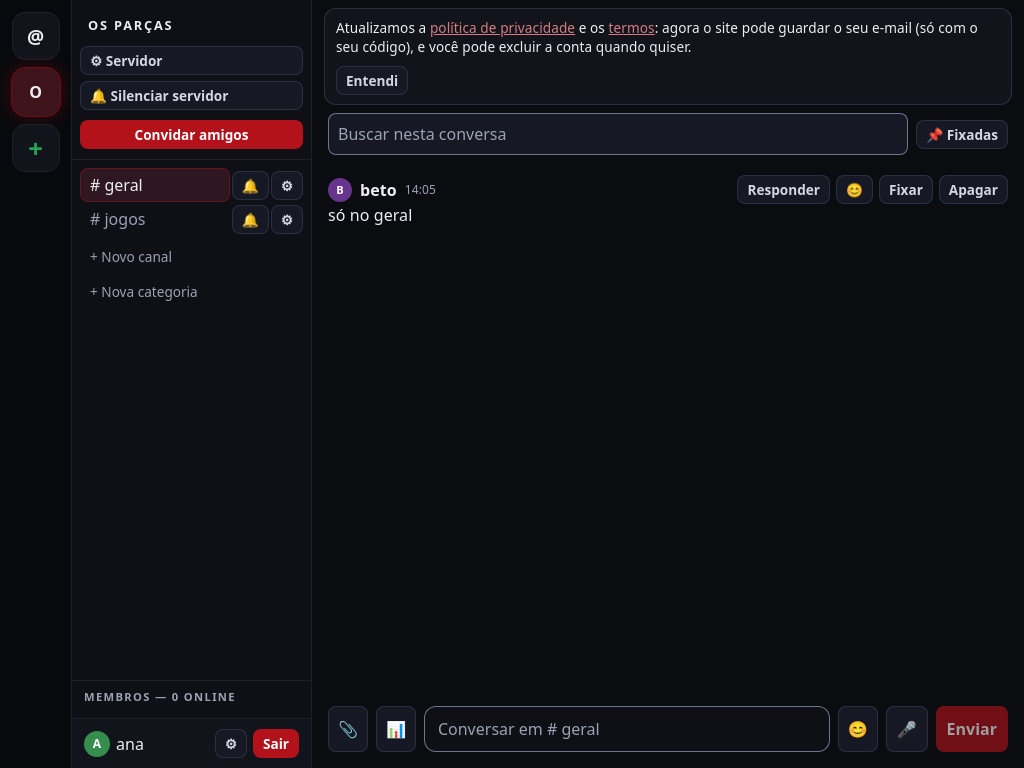
Test: mensagens › trocar de canal carrega o histórico do outro canal
Check: the text "só no geral" is shown, box [328,204,412,226]
Step 1. Click the button "# jogos" → (155, 219), box [80,202,230,236]
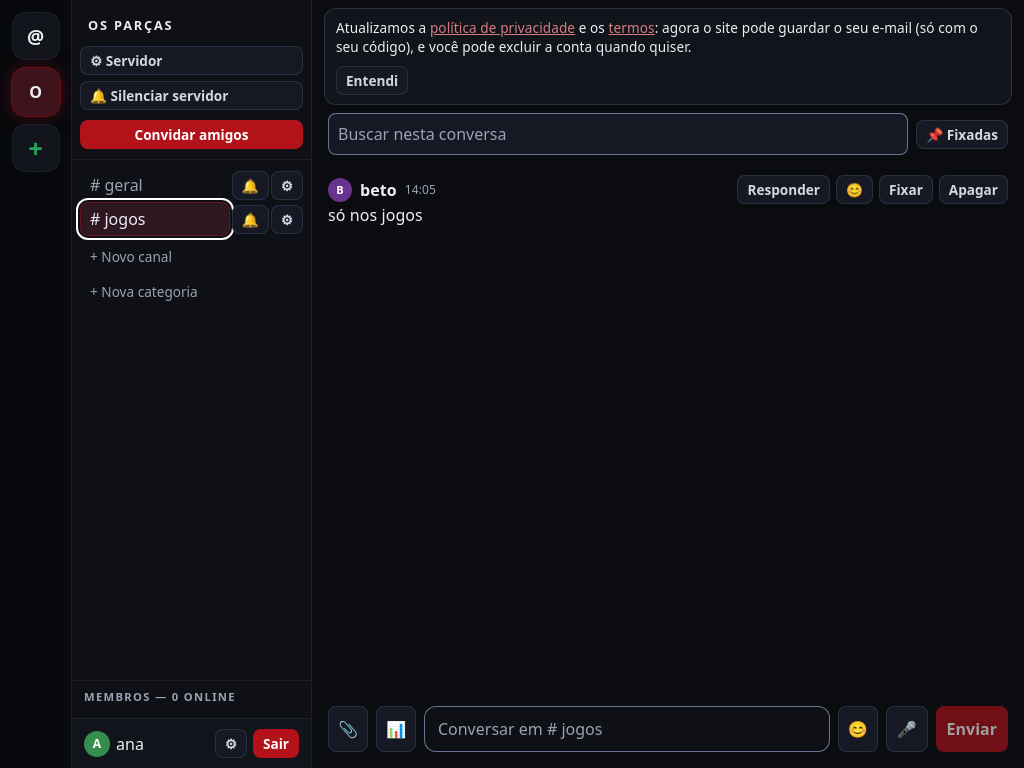
Check: the text "só nos jogos" is shown, box [328,204,423,226]
Check: the text "só no geral" is gone
